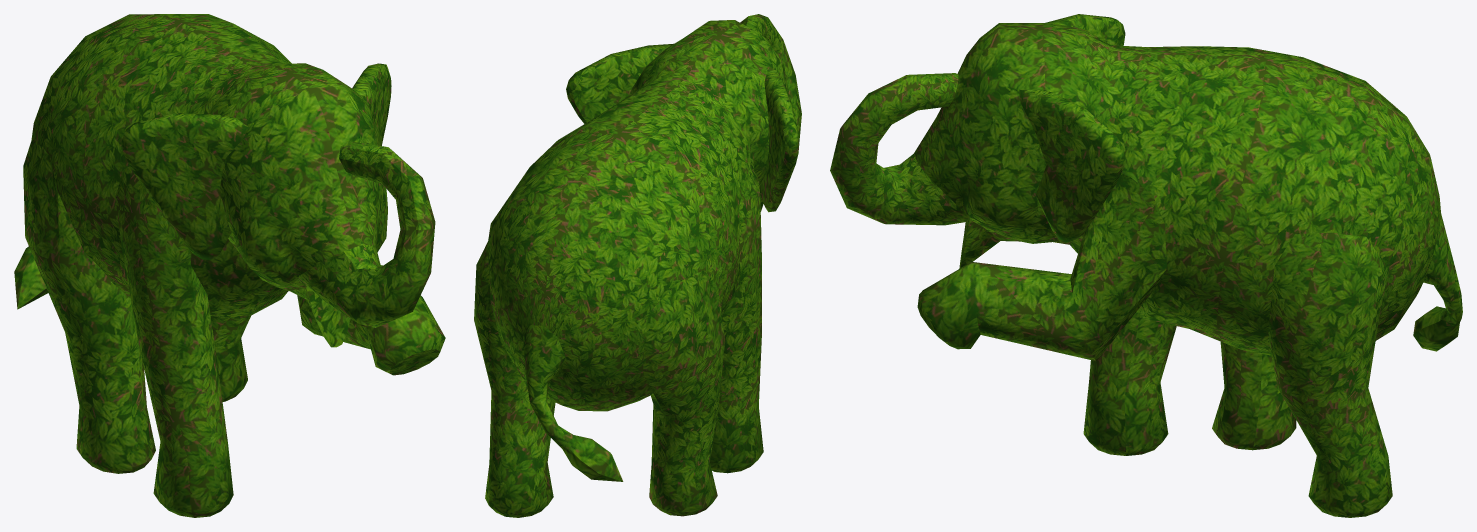
File: syj_zxzhiwu02.fbx
3 views of the same model, side by side, from view 1: azimuth 30°, elevation 25°; view 2: azimuth 150°, elevation 25°; view 3: azimuth 270°, elevation 25° (orthographic). The views are drawn at different scales.
Parts seen in each view (by area): view 1: syj_zxzhiwu02; view 2: syj_zxzhiwu02; view 3: syj_zxzhiwu02.
Part boxes in pixels (box(x1,y1,x2,y2)): syj_zxzhiwu02: box(14, 14, 445, 517); syj_zxzhiwu02: box(474, 14, 801, 517); syj_zxzhiwu02: box(830, 14, 1462, 517).
Bounding box in the file's own units: 156 × 251 × 325.
